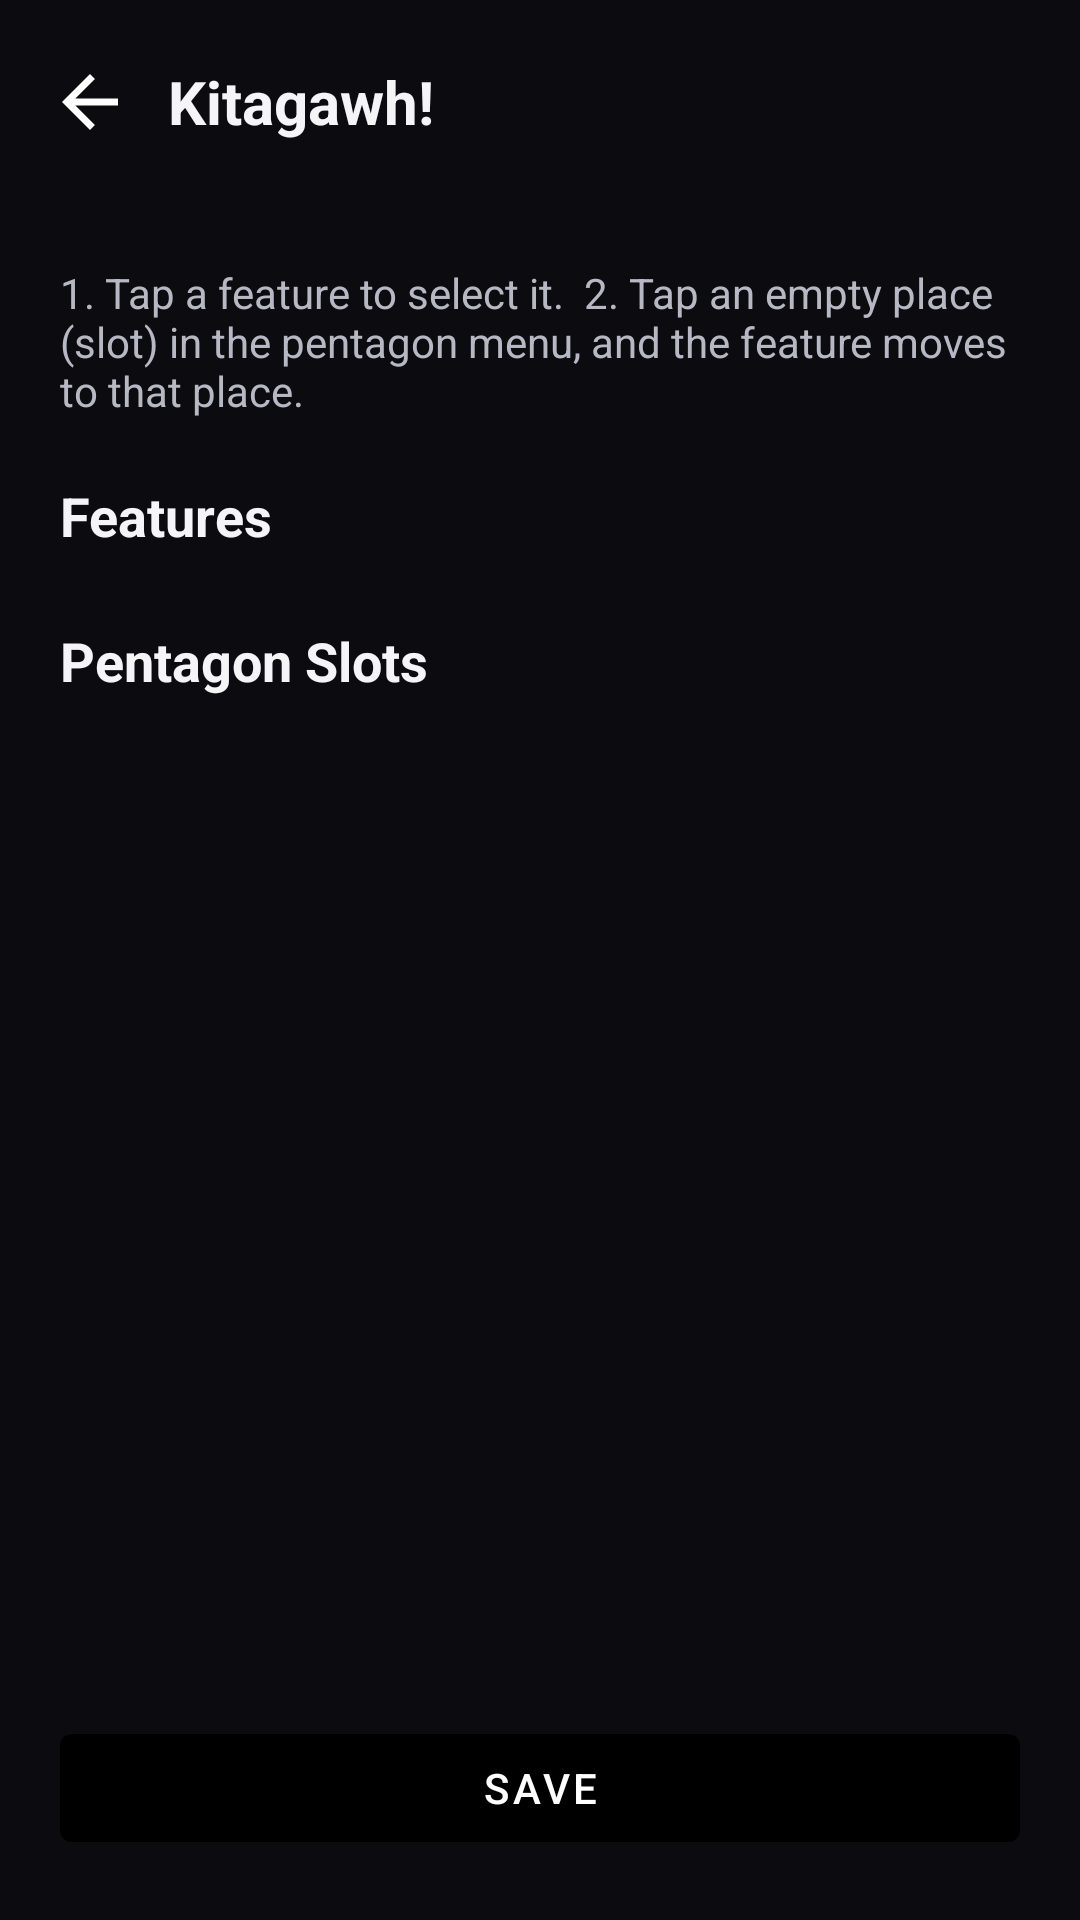

Named icons in this screenshot (1080*1920) and their centers, (x,y):
Back: (90,102)
